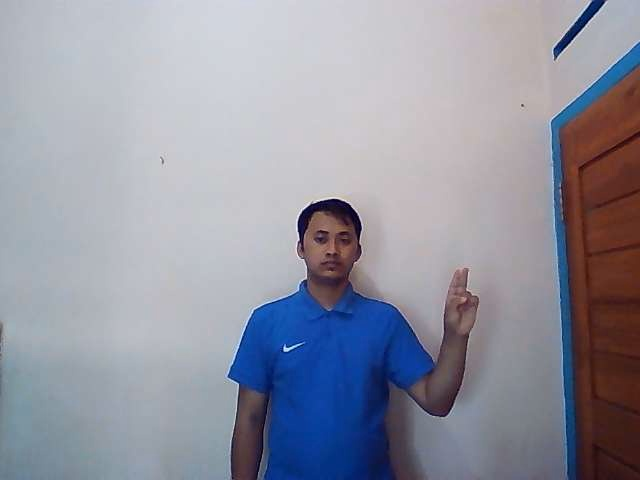U: (442, 267, 479, 334)
